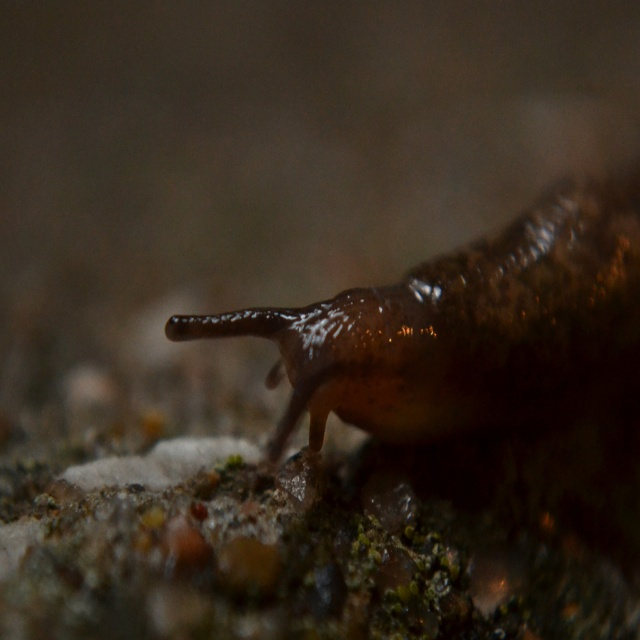Snail: (162, 160, 640, 460)
